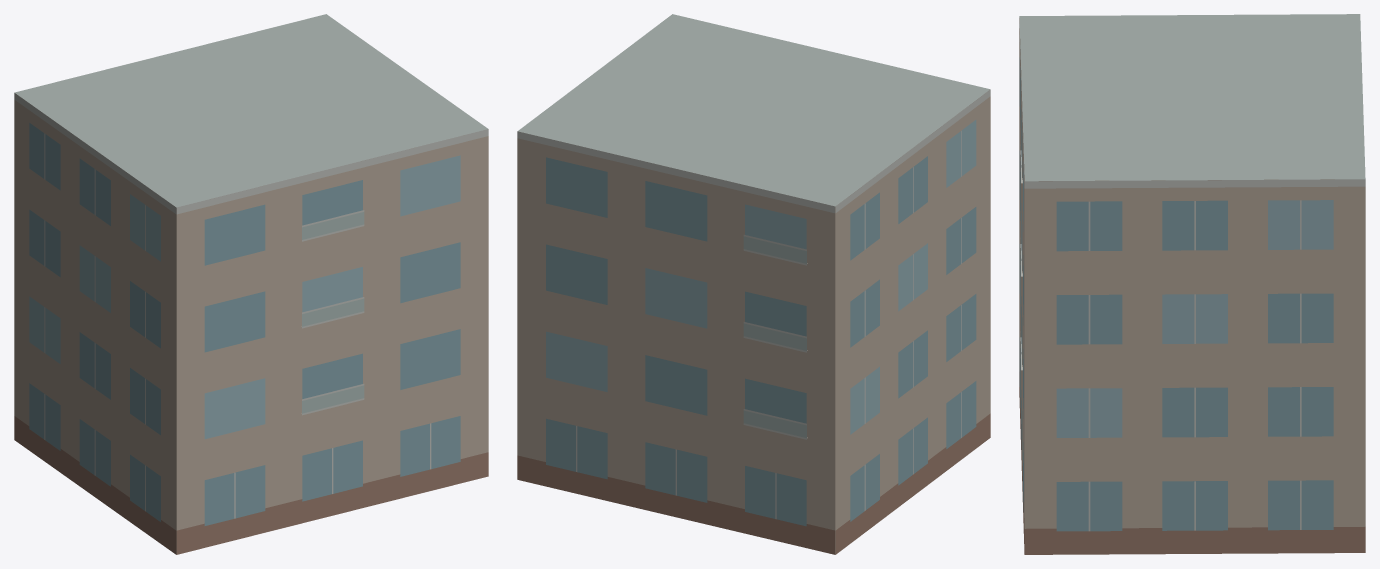
Rendered from residential-7c25f665-4501-48cf-8ffc-3ca77a9a15ba.glb.
The picture shows the model from 3 angles, left to right: view 1: azimuth 30°, elevation 25°; view 2: azimuth 150°, elevation 25°; view 3: azimuth 270°, elevation 25°; orthographic projection. The views are drawn at different scales.
Parts seen in each view (by area): view 1: residential-7c25f665-4501-48cf-8ffc-3ca77a9a15ba.tmp; view 2: residential-7c25f665-4501-48cf-8ffc-3ca77a9a15ba.tmp; view 3: residential-7c25f665-4501-48cf-8ffc-3ca77a9a15ba.tmp.
Part boxes in pixels (left/top/right/bottom): residential-7c25f665-4501-48cf-8ffc-3ca77a9a15ba.tmp: left=14, top=14, right=488, bottom=554; residential-7c25f665-4501-48cf-8ffc-3ca77a9a15ba.tmp: left=517, top=14, right=990, bottom=554; residential-7c25f665-4501-48cf-8ffc-3ca77a9a15ba.tmp: left=1019, top=14, right=1365, bottom=554.
Size of the model in its own units: 11.72 by 12.2 by 10.25.
